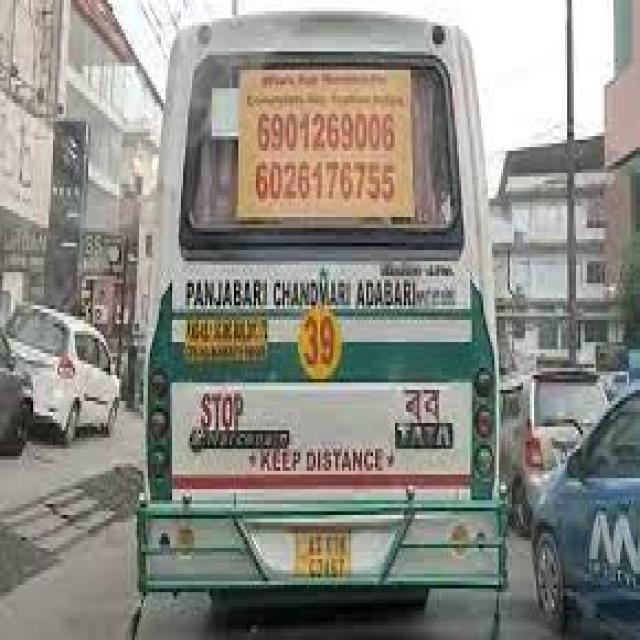Bus: (136, 3, 527, 606)
Car: (537, 383, 640, 640), (498, 348, 604, 494), (13, 295, 125, 431), (0, 300, 38, 478)
